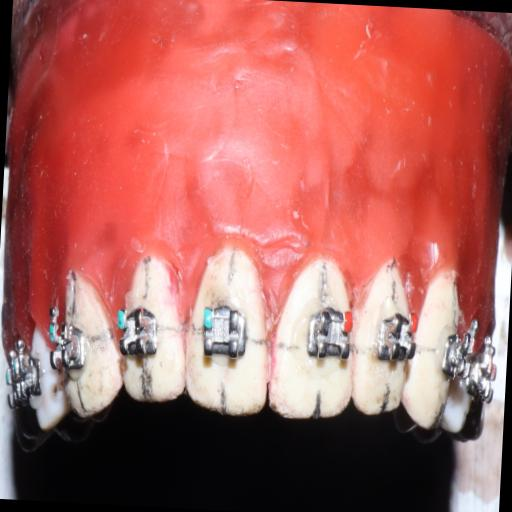incorrect_brace: (196, 302, 254, 363), (302, 299, 354, 367)
